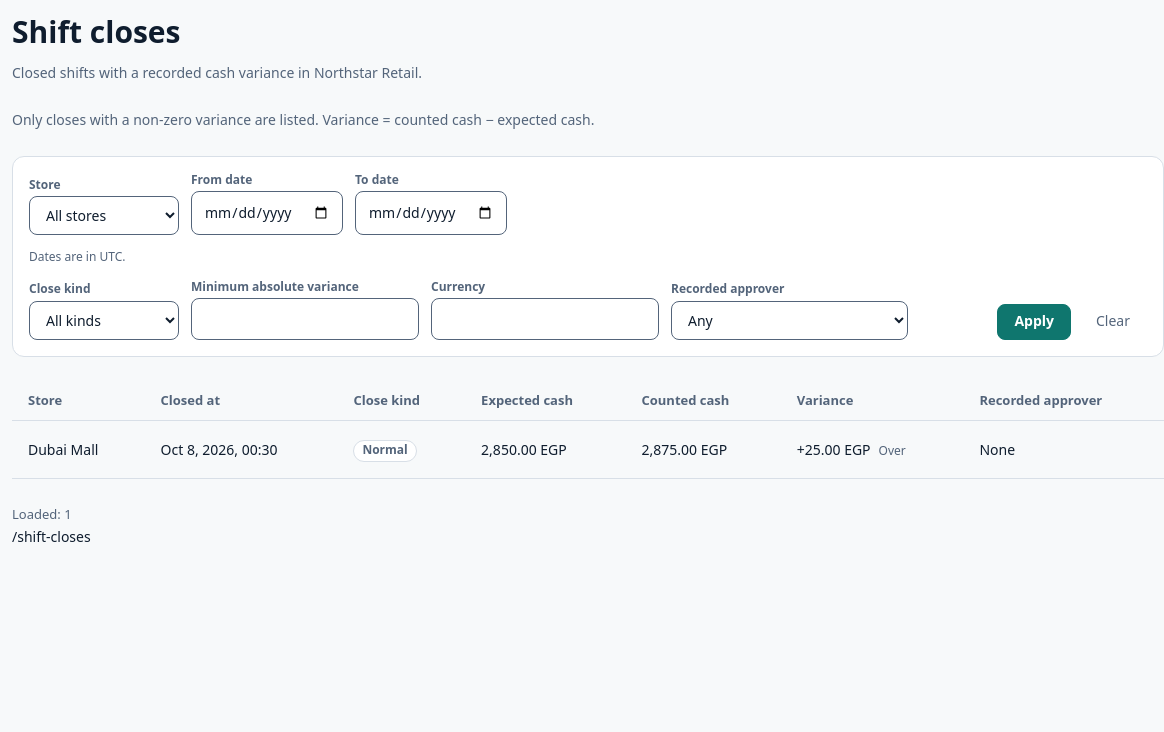
it: ShiftCloseList (RT-18) › an invalid filter value is explained and nothing is sent
The width and height of the screenshot is (1164, 732).
Type "abc" into the field labelled "Minimum absolute variance" at (305, 319), box [191,298,419,340]
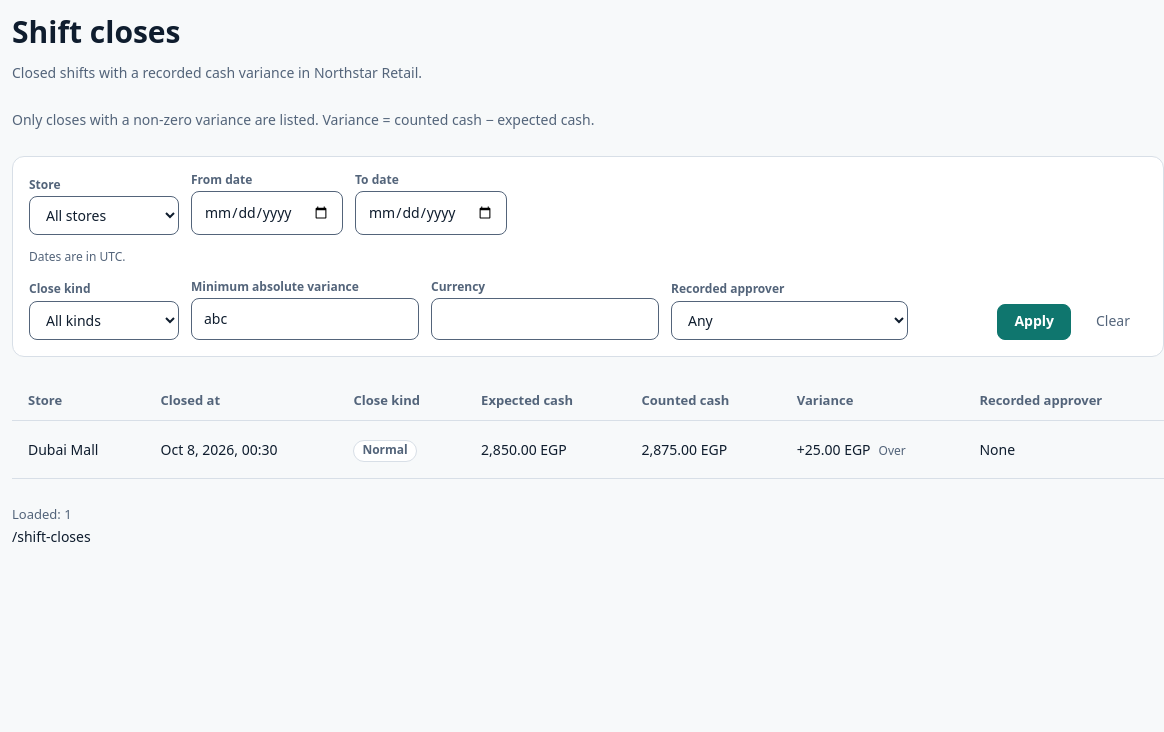
Click the button "Apply" at (1034, 322), box [997,304,1071,340]
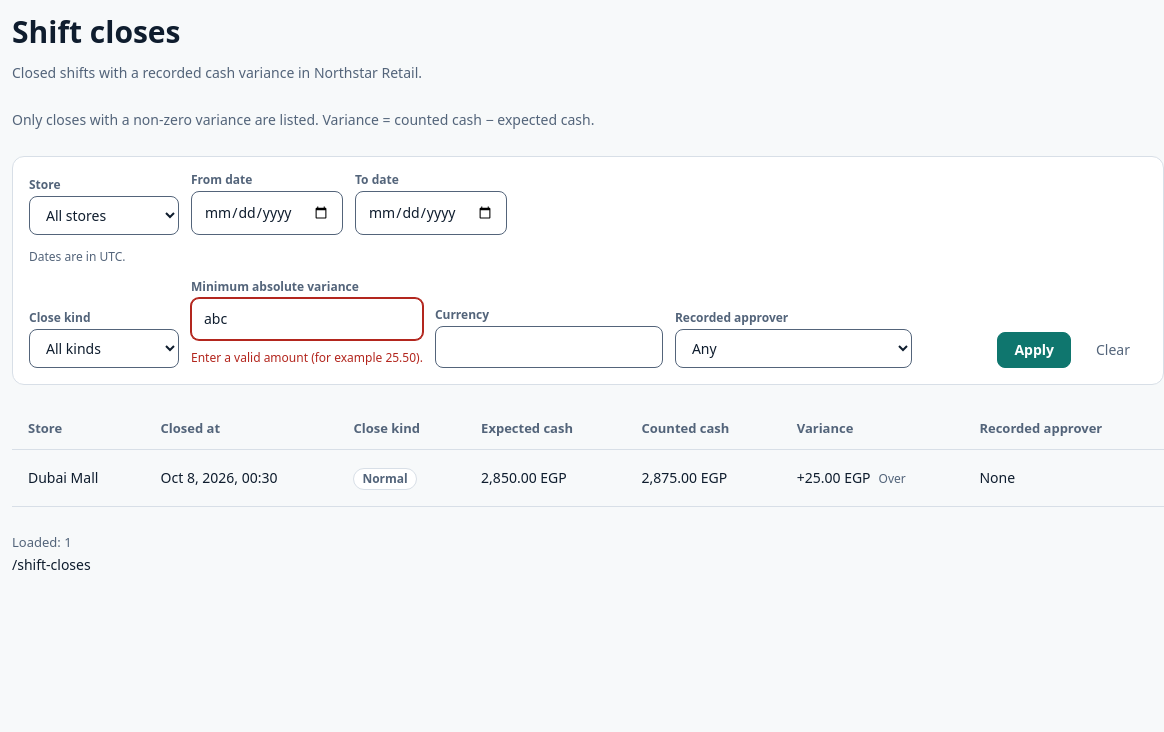
expect the text "Enter a valid amount (for example 25.50)." is shown: met, box [191,348,423,368]
